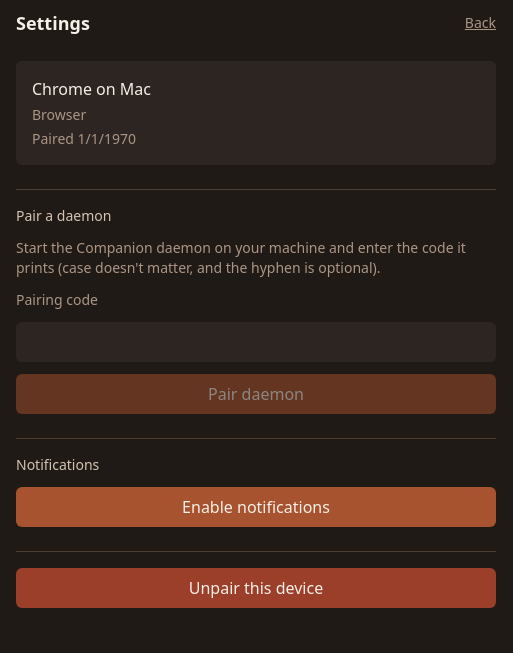
SettingsScreen › notifications section › enables push notifications and shows the Disable button after clicking Enable
The width and height of the screenshot is (513, 653).
What coordinates should you click on to do the following:
click the button "Enable notifications"
I would click on:
 (256, 507)
Its box is x1=16 y1=487 x2=496 y2=527.
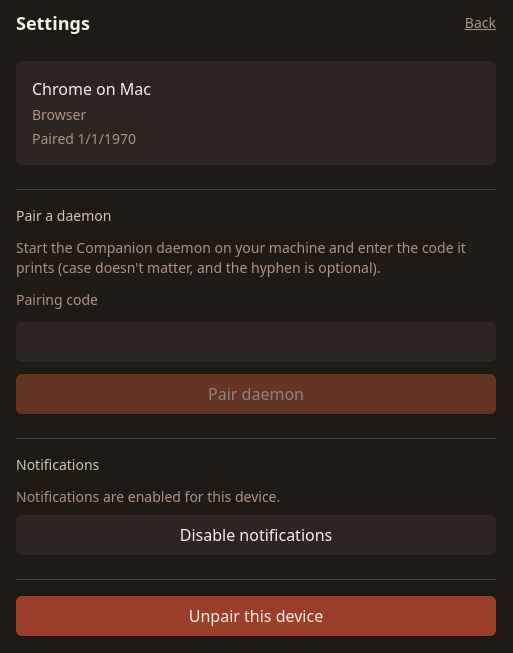
Expected: the button "Disable notifications" is shown, x1=16 y1=515 x2=496 y2=555
